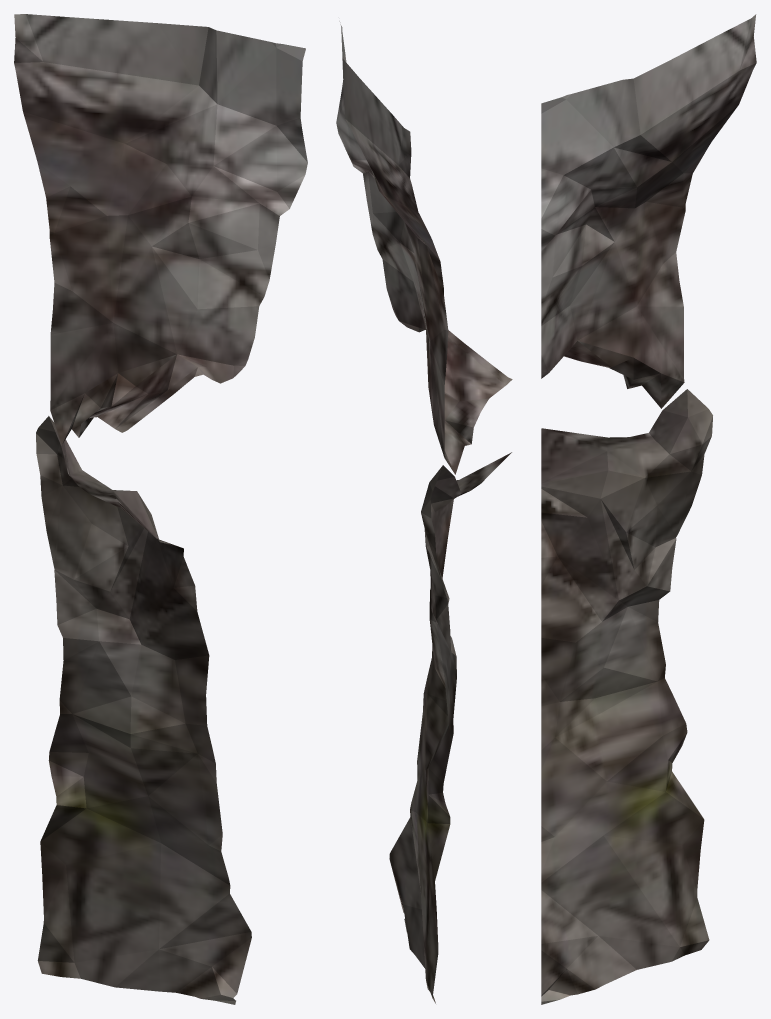
3 views of the same model, side by side, from view 1: azimuth 30°, elevation 25°; view 2: azimuth 150°, elevation 25°; view 3: azimuth 270°, elevation 25° (orthographic). The views are drawn at different scales.
Bounding box in the file's own units: 0.1733 × 0.8373 × 0.1747.
Materials: 1 (1 with a texture image).
